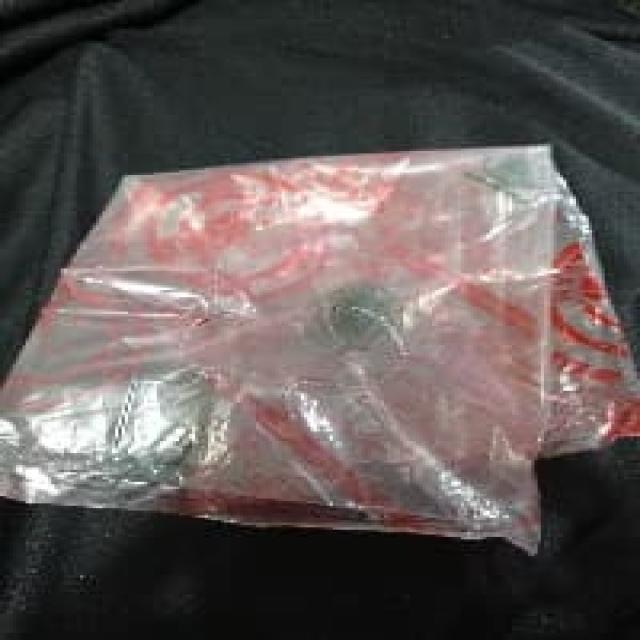Plastik: (2, 146, 637, 551)
